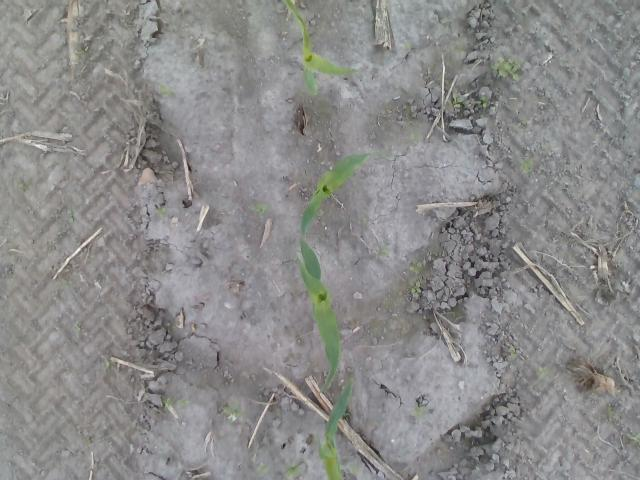Maize: (301, 150, 395, 281), (281, 0, 357, 97), (292, 252, 341, 391), (319, 378, 352, 480)
Weeds: (492, 55, 520, 80), (222, 403, 246, 423), (519, 155, 537, 174), (282, 461, 302, 478), (248, 203, 268, 217), (534, 362, 551, 378), (158, 83, 174, 98), (604, 406, 618, 422), (450, 92, 464, 108), (15, 178, 30, 192), (626, 431, 640, 445), (408, 260, 422, 274), (410, 405, 426, 417), (154, 204, 167, 218), (344, 462, 362, 472), (376, 245, 388, 259), (162, 396, 174, 410), (474, 96, 488, 108), (410, 280, 422, 294), (409, 132, 423, 142), (177, 397, 190, 406), (60, 279, 73, 288), (67, 209, 75, 223), (101, 360, 112, 370), (358, 216, 369, 226), (258, 464, 268, 474), (508, 346, 516, 358), (74, 324, 82, 336), (76, 46, 88, 54), (81, 438, 92, 446), (540, 141, 547, 150)
